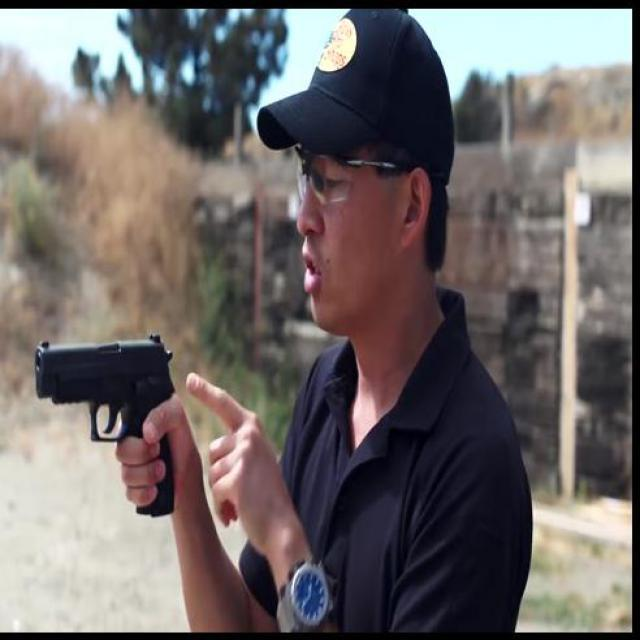gun: (34, 330, 182, 518)
